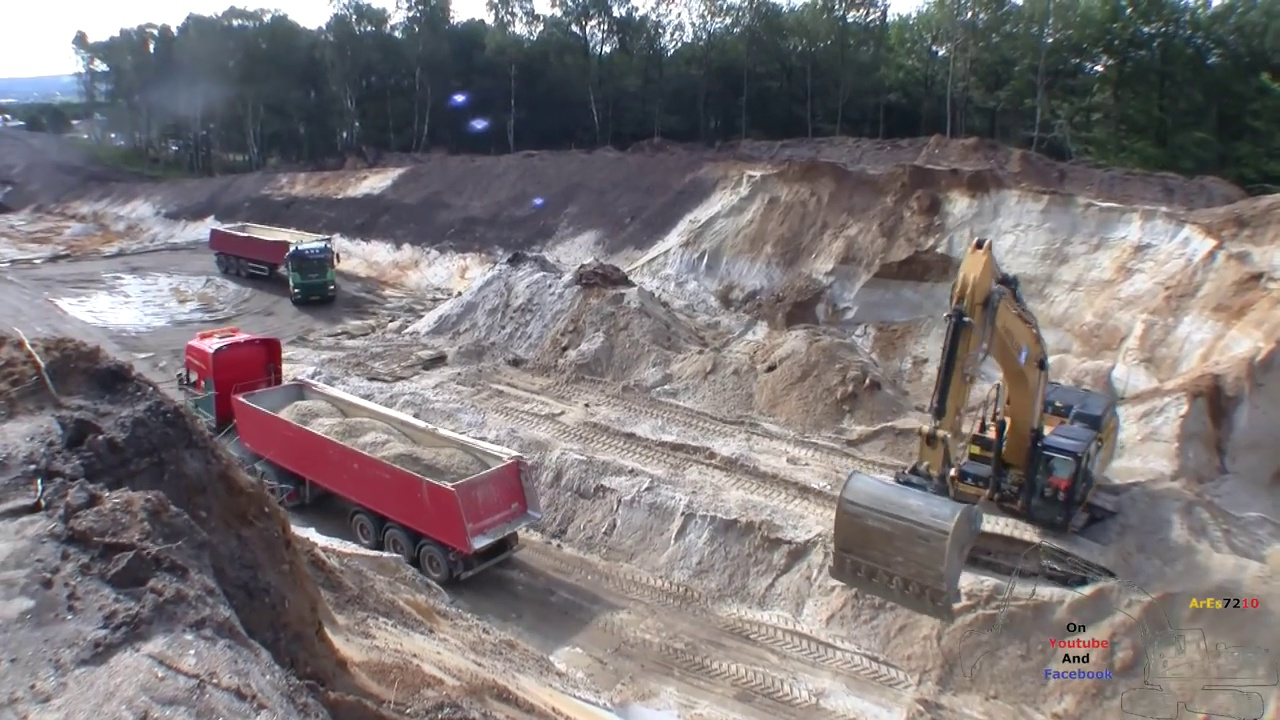excavator: (829, 235, 1121, 622)
truck: (179, 328, 540, 580), (209, 222, 342, 304)
